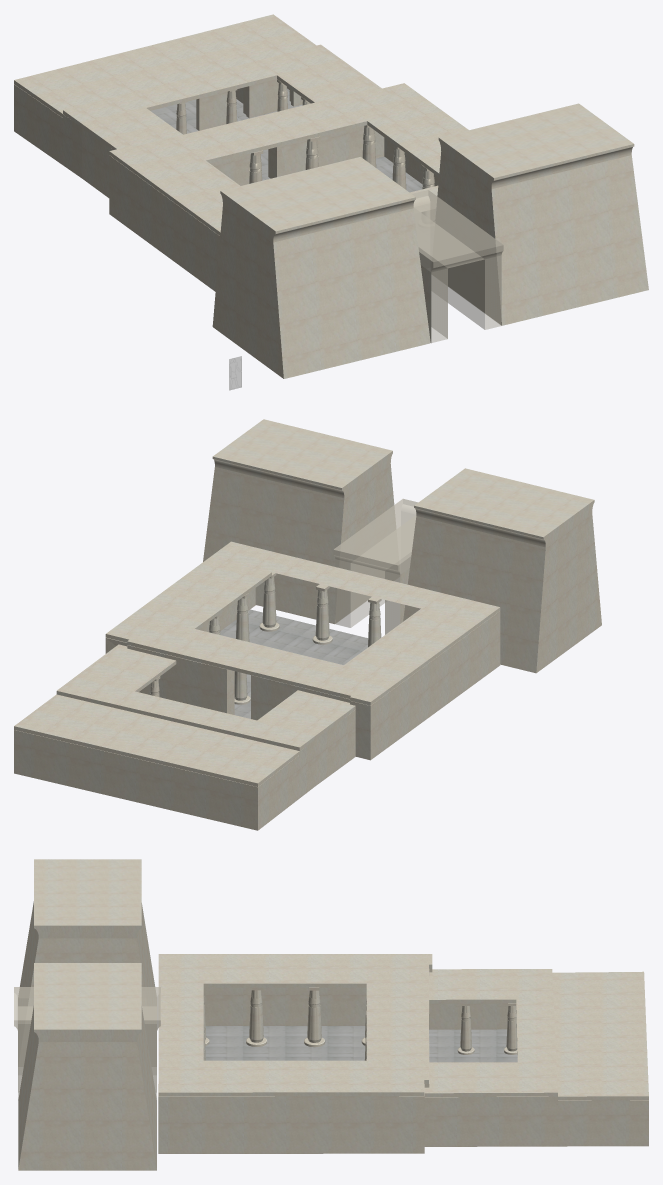
The model's file is Nesdjehuty.glb.
3 renders of one model, top to bottom at view 1: azimuth 30°, elevation 25°; view 2: azimuth 150°, elevation 25°; view 3: azimuth 270°, elevation 25°, orthographic. The views are drawn at different scales.
Visible parts, largest first — view 1: Mesh42 Component_11_2 Model, Mesh41 Component_11_1 Model, Mesh22 Roof1 Component_5_1 Model, Mesh40 Component_5_1 Model, Mesh23 Roof1 Component_5_1 Model, Mesh1 Component_3_1 Model; view 2: Mesh40 Component_5_1 Model, Mesh42 Component_11_2 Model, Mesh41 Component_11_1 Model, Mesh23 Roof1 Component_5_1 Model, Mesh22 Roof1 Component_5_1 Model, Mesh1 Component_3_1 Model, Mesh20 column_1_10 Component_5_1 Model, Mesh28 column_1_13 Component_5_1 Model; view 3: Mesh40 Component_5_1 Model, Mesh23 Roof1 Component_5_1 Model, Mesh41 Component_11_1 Model, Mesh22 Roof1 Component_5_1 Model, Mesh42 Component_11_2 Model, Mesh1 Component_3_1 Model, Mesh12 column_1_6 Component_5_1 Model, Mesh26 column_1_12 Component_5_1 Model, Mesh10 column_1_5 Component_5_1 Model, Mesh6 column_1_3 Component_5_1 Model.
Part boxes in pixels (box(x1,y1,x2,y2)): Mesh42 Component_11_2 Model: box(212, 157, 430, 378); Mesh41 Component_11_1 Model: box(435, 103, 648, 325); Mesh22 Roof1 Component_5_1 Model: box(14, 14, 381, 149); Mesh40 Component_5_1 Model: box(14, 79, 438, 291); Mesh23 Roof1 Component_5_1 Model: box(109, 83, 468, 235); Mesh1 Component_3_1 Model: box(412, 190, 503, 343); Mesh40 Component_5_1 Model: box(14, 588, 500, 830); Mesh42 Component_11_2 Model: box(403, 468, 601, 673); Mesh41 Component_11_1 Model: box(203, 419, 395, 624); Mesh23 Roof1 Component_5_1 Model: box(105, 541, 500, 705); Mesh22 Roof1 Component_5_1 Model: box(14, 644, 355, 786); Mesh1 Component_3_1 Model: box(333, 498, 417, 634); Mesh20 column_1_10 Component_5_1 Model: box(312, 590, 332, 644); Mesh28 column_1_13 Component_5_1 Model: box(259, 577, 279, 631); Mesh40 Component_5_1 Model: box(158, 968, 648, 1153); Mesh23 Roof1 Component_5_1 Model: box(158, 954, 432, 1096); Mesh41 Component_11_1 Model: box(18, 963, 156, 1170); Mesh22 Roof1 Component_5_1 Model: box(424, 969, 648, 1100); Mesh42 Component_11_2 Model: box(18, 859, 156, 1006); Mesh1 Component_3_1 Model: box(14, 987, 160, 1099); Mesh12 column_1_6 Component_5_1 Model: box(304, 990, 325, 1047); Mesh26 column_1_12 Component_5_1 Model: box(246, 990, 266, 1046); Mesh10 column_1_5 Component_5_1 Model: box(457, 1006, 474, 1054); Mesh6 column_1_3 Component_5_1 Model: box(504, 1006, 517, 1054).
Bounding box in the file's own units: 22.27 × 7.22 × 30.08.
6 materials, 5 textured.
